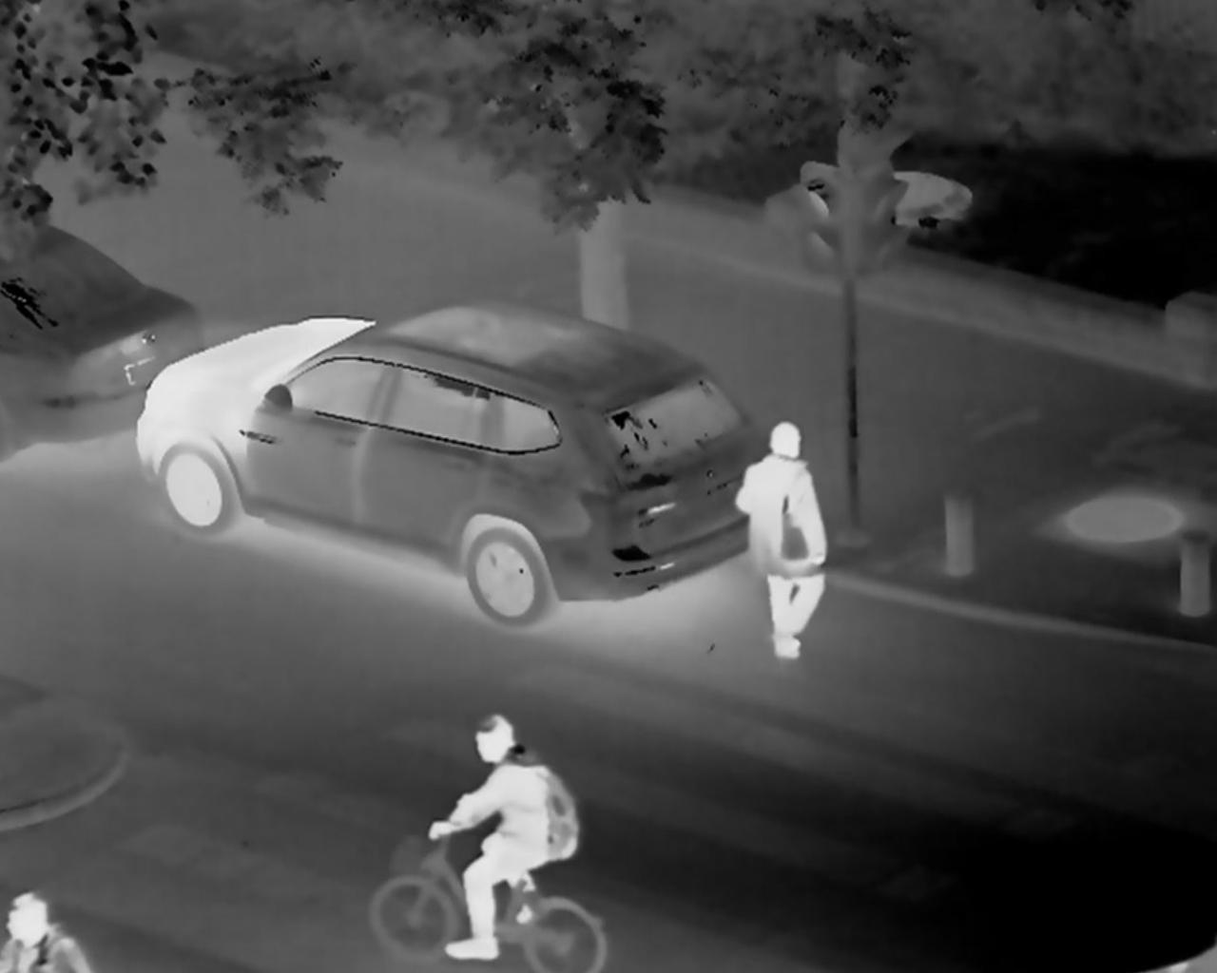person: (421, 705, 595, 973), (718, 406, 859, 694)
